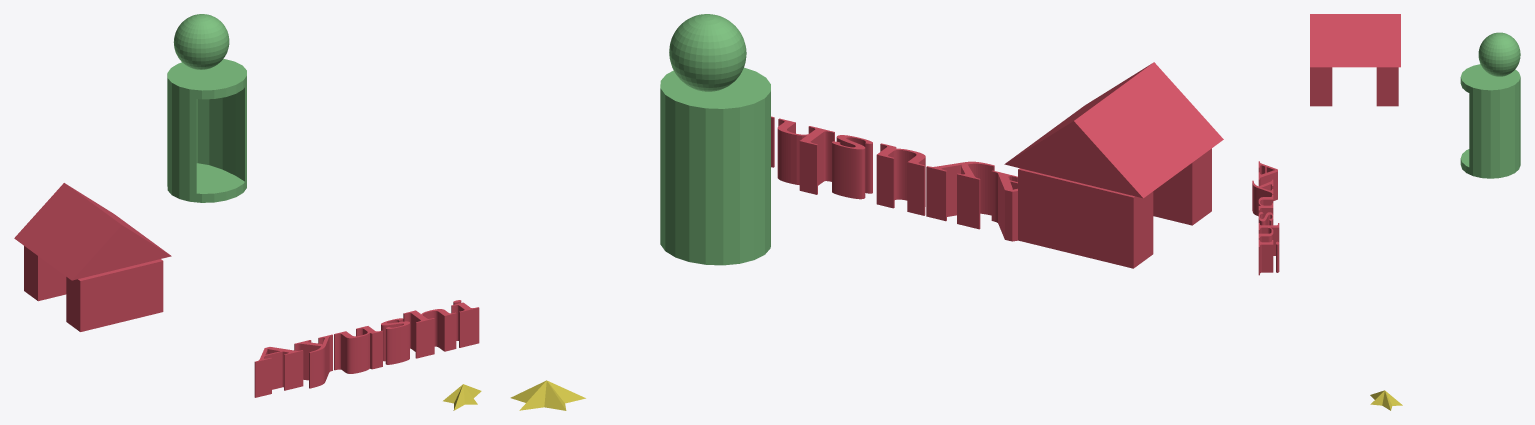
Rendered from Training sessions 3.glb.
3 views of the same model, side by side, from view 1: azimuth 30°, elevation 25°; view 2: azimuth 150°, elevation 25°; view 3: azimuth 270°, elevation 25° (orthographic). The views are drawn at different scales.
Visible parts, largest first — view 1: Mesh_Mesh_head_geo.001_lambert2SG.001; view 2: Mesh_Mesh_head_geo.001_lambert2SG.001; view 3: Mesh_Mesh_head_geo.001_lambert2SG.001.
Part boxes in pixels (<box>): Mesh_Mesh_head_geo.001_lambert2SG.001: <box>14,14,481,410</box>; Mesh_Mesh_head_geo.001_lambert2SG.001: <box>510,14,1223,410</box>; Mesh_Mesh_head_geo.001_lambert2SG.001: <box>1252,14,1520,410</box>.
Size of the model in its own units: 189 by 147 by 121.
